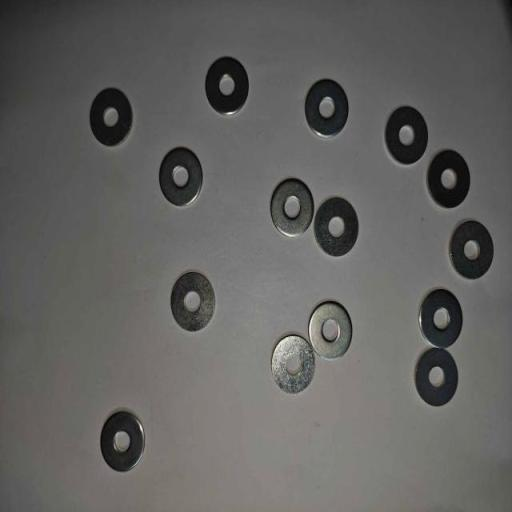washer: (99, 408, 146, 474), (170, 269, 215, 333), (271, 332, 317, 394), (307, 300, 353, 362), (204, 54, 250, 116), (158, 145, 204, 207), (88, 86, 134, 148), (426, 147, 471, 210), (449, 218, 494, 280), (384, 104, 429, 166), (304, 76, 349, 138), (418, 287, 463, 348), (314, 196, 359, 257), (414, 346, 458, 408), (270, 177, 314, 238)
